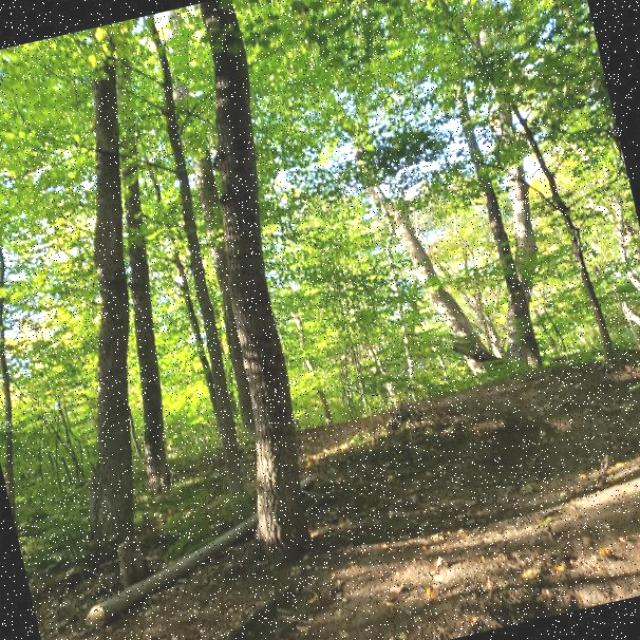fallen_object: (44, 418, 374, 640)
